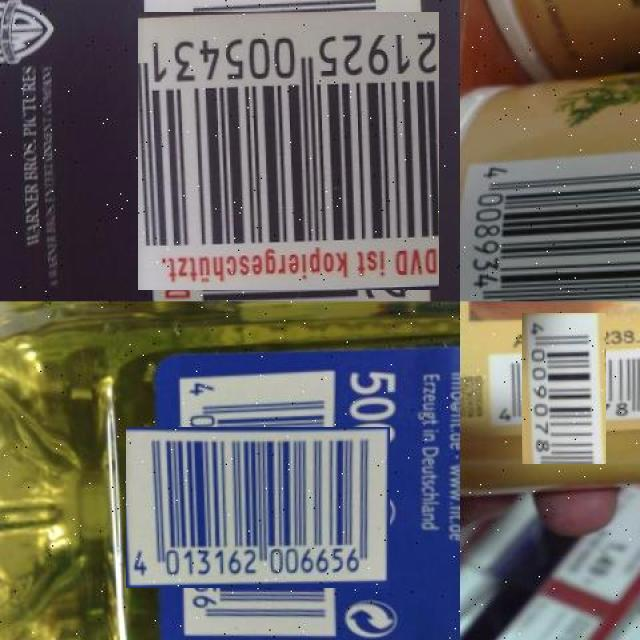Barcode: (143, 6, 433, 296), (151, 401, 364, 614), (460, 151, 640, 301), (505, 330, 623, 448)
